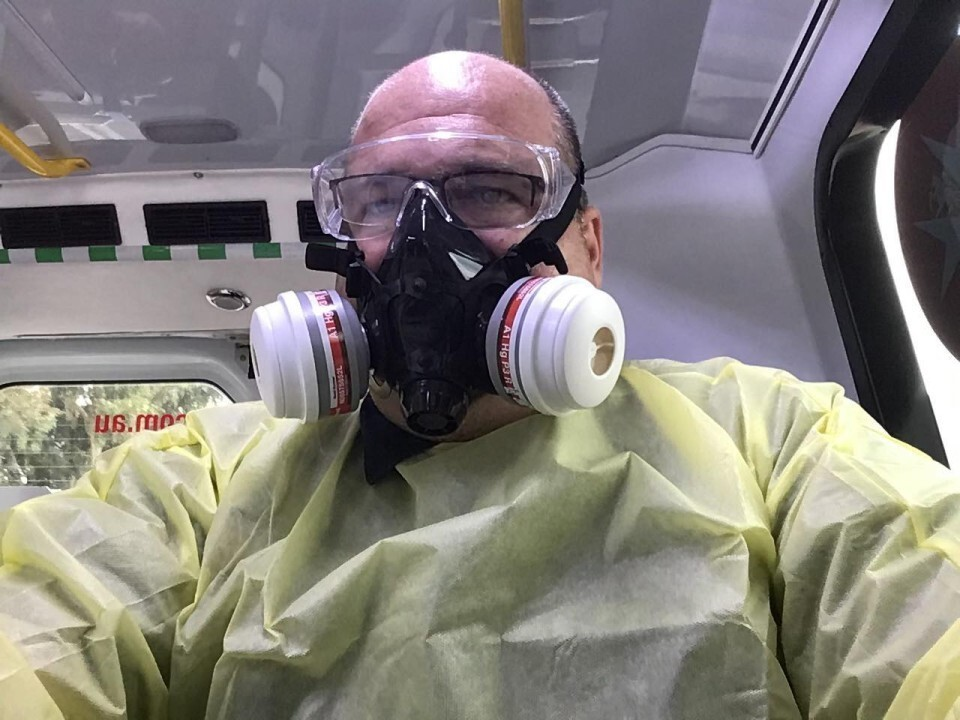Goggles: (307, 127, 579, 233)
with_mask: (242, 168, 627, 427)
